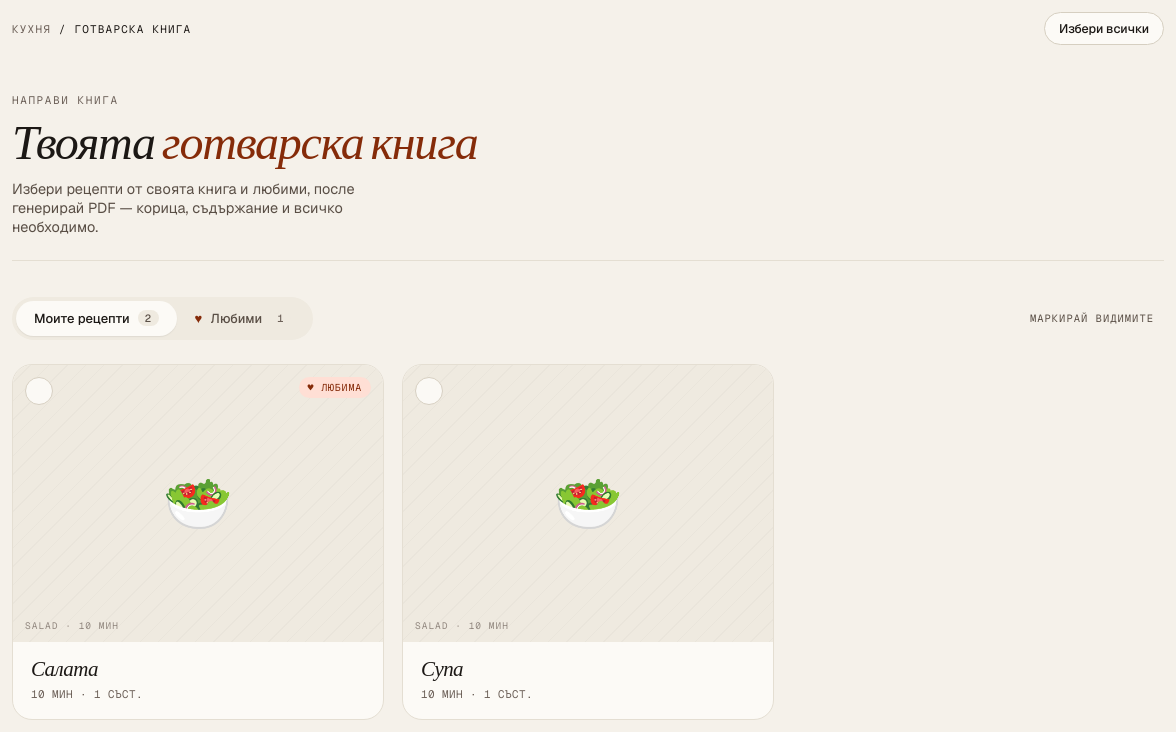
Test: CookbookScreen – filter tabs › shows only favorited recipes in the Favorites tab
Click the tab "♥ Любими 1" at [243, 318], box 177,301 -> 309,336
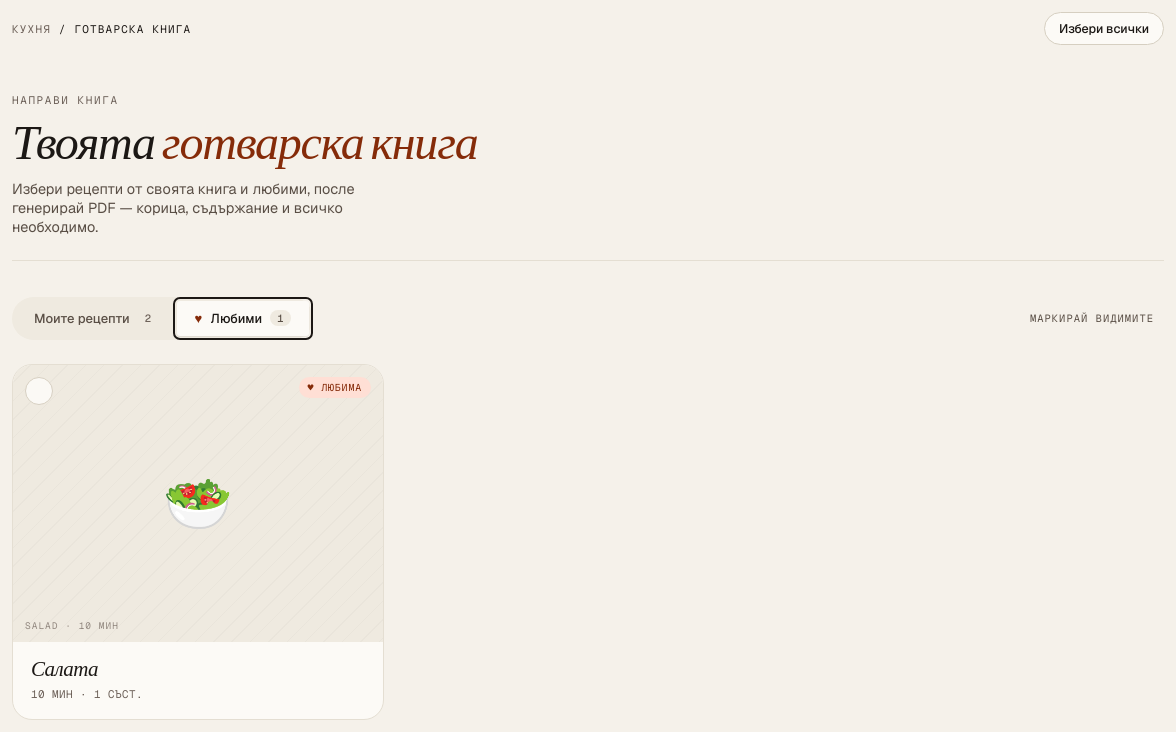
Expected: the text "Салата" is shown, 31,656 -> 98,684
Expected: the text "Супа" is gone
